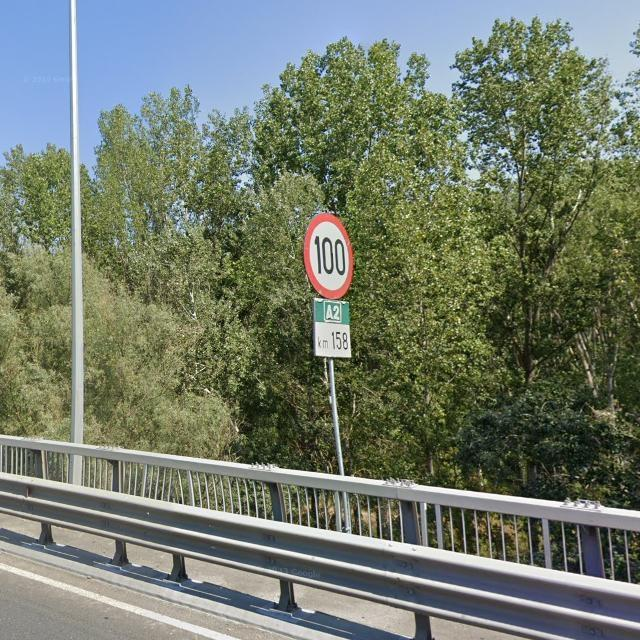forb_speed_over_100: (304, 213, 354, 299)
